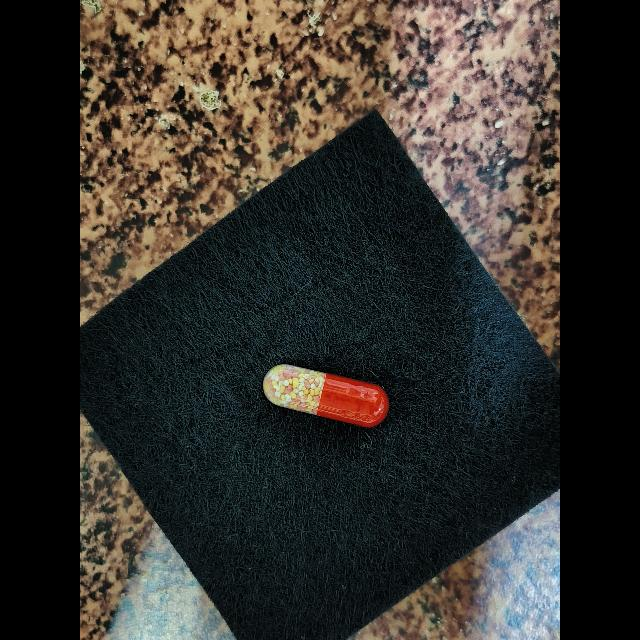Intact Capsule: (263, 364, 389, 427)
